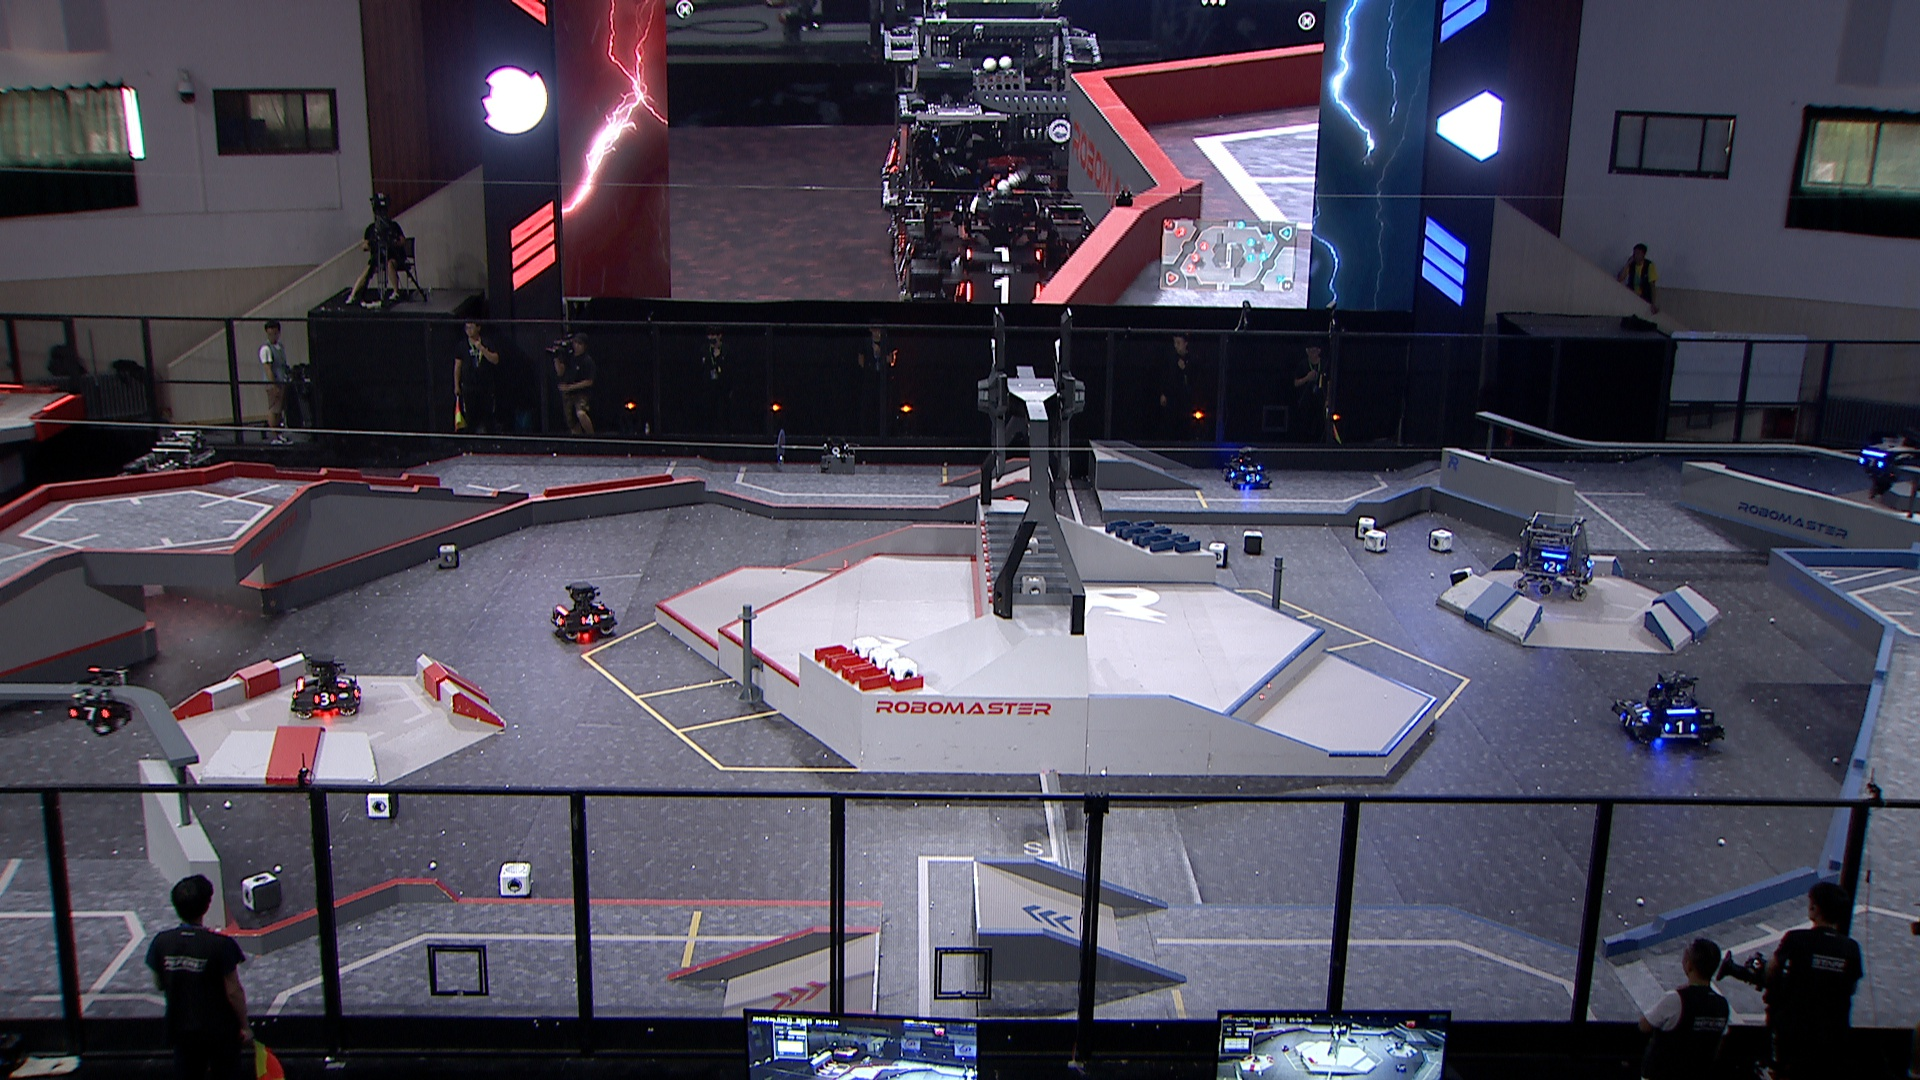armor: (69, 707, 112, 723), (1662, 719, 1698, 735), (1855, 456, 1888, 469), (310, 692, 338, 705), (1631, 702, 1651, 719), (1542, 560, 1567, 574), (579, 613, 603, 626), (332, 673, 351, 688), (1240, 472, 1262, 484), (1621, 711, 1634, 731), (1240, 465, 1262, 473), (553, 613, 566, 626)
car: (1609, 669, 1730, 752), (119, 429, 223, 524), (1509, 512, 1594, 603), (290, 654, 368, 723), (546, 580, 618, 644), (1221, 447, 1275, 491)
ignore: (907, 187, 1058, 305)
watcher: (62, 665, 136, 736), (1847, 439, 1913, 496)
